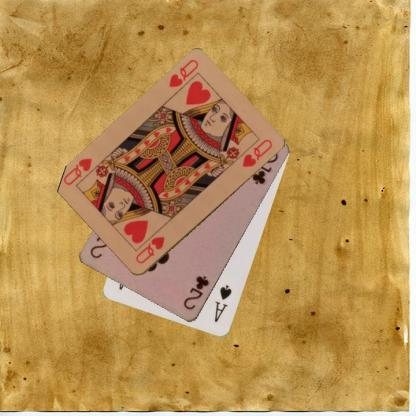2c: (181, 273, 210, 313)
As: (212, 282, 234, 324)
Qh: (166, 56, 200, 90), (133, 234, 166, 265)
